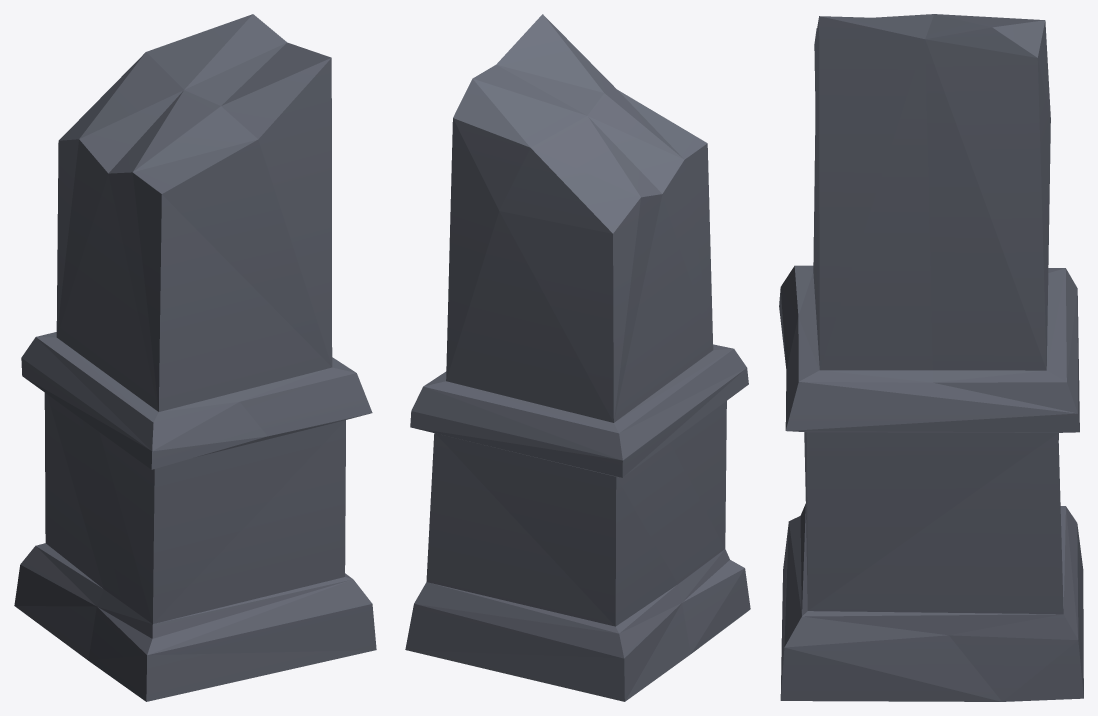
Rendered from Ruins_03.fbx.
3 renders of one model, left to right at view 1: azimuth 30°, elevation 25°; view 2: azimuth 150°, elevation 25°; view 3: azimuth 270°, elevation 25°, orthographic. The views are drawn at different scales.
Visible parts, largest first — view 1: Ruins_03; view 2: Ruins_03; view 3: Ruins_03.
Part boxes in pixels (x1=…): Ruins_03: x1=14, y1=14, x2=376, y2=701; Ruins_03: x1=405, y1=14, x2=750, y2=701; Ruins_03: x1=779, y1=14, x2=1083, y2=701.
Size of the model in its own units: 0.4989 by 1.22 by 0.5023.
